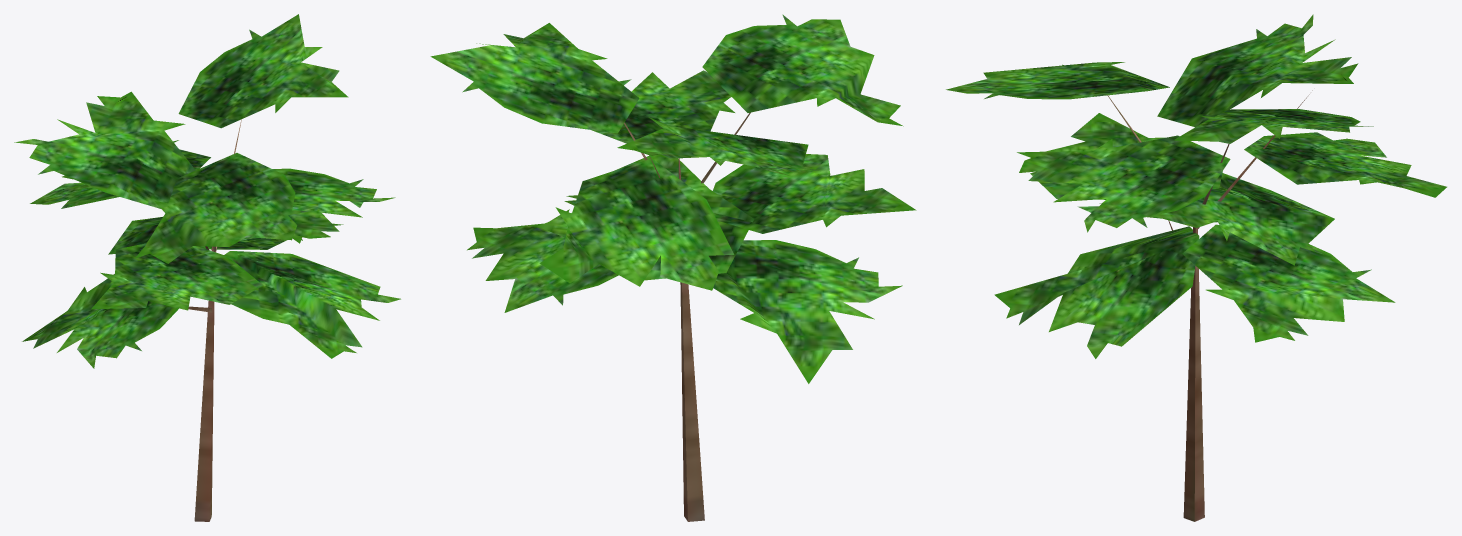
The picture shows the model from 3 angles, left to right: view 1: azimuth 30°, elevation 25°; view 2: azimuth 150°, elevation 25°; view 3: azimuth 270°, elevation 25°; orthographic projection. The views are drawn at different scales.
Parts seen in each view (by area): view 1: 6086768113454c447c4a6fb7; view 2: 6086768113454c447c4a6fb7; view 3: 6086768113454c447c4a6fb7.
Boxes of the visible parts, x1,y1,x2,y2 form: 6086768113454c447c4a6fb7: (14, 14, 400, 521); 6086768113454c447c4a6fb7: (430, 14, 916, 521); 6086768113454c447c4a6fb7: (946, 14, 1446, 521).
Bounding box in the file's own units: 9.12 × 11.22 × 10.73.
Materials: 1 (1 with a texture image).
